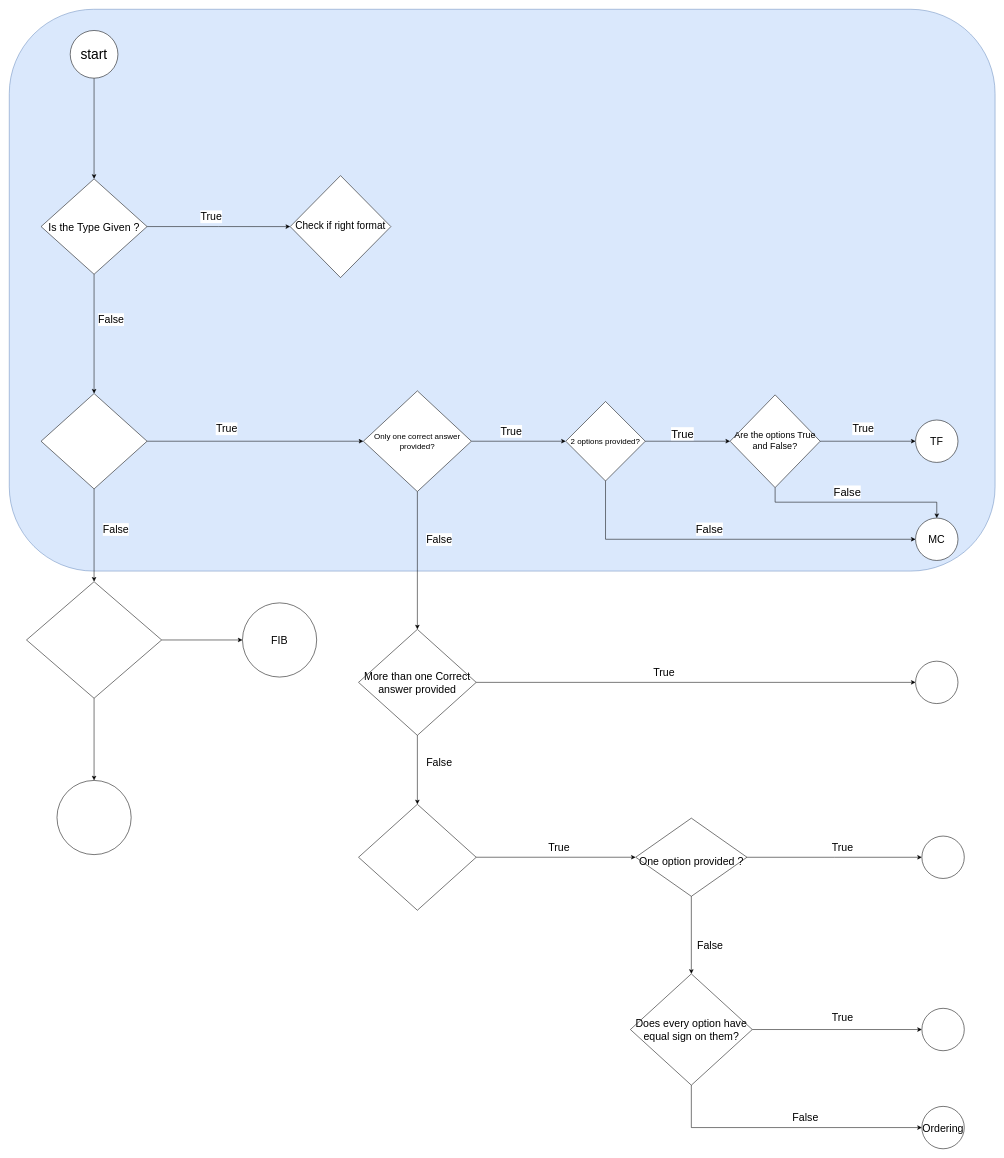
This 1004x1158 diagram has some shape labels left out. Here are the shapes that lost their labels. From the top down, the centre of each, then its label:
At (94,441): "Is this an answer list included?".
At (94,639): "Does have brackets in question body?".
At (936,682): "MS".
At (417,857): "No correct answer provided ?".
At (942,857): "Essay".
At (942,1029): "Matching".
